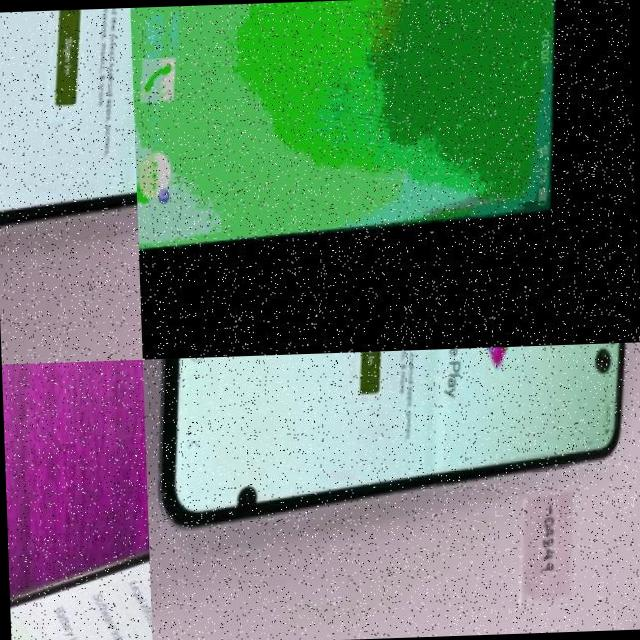dead pixel: (234, 461, 277, 530), (591, 342, 626, 384)
